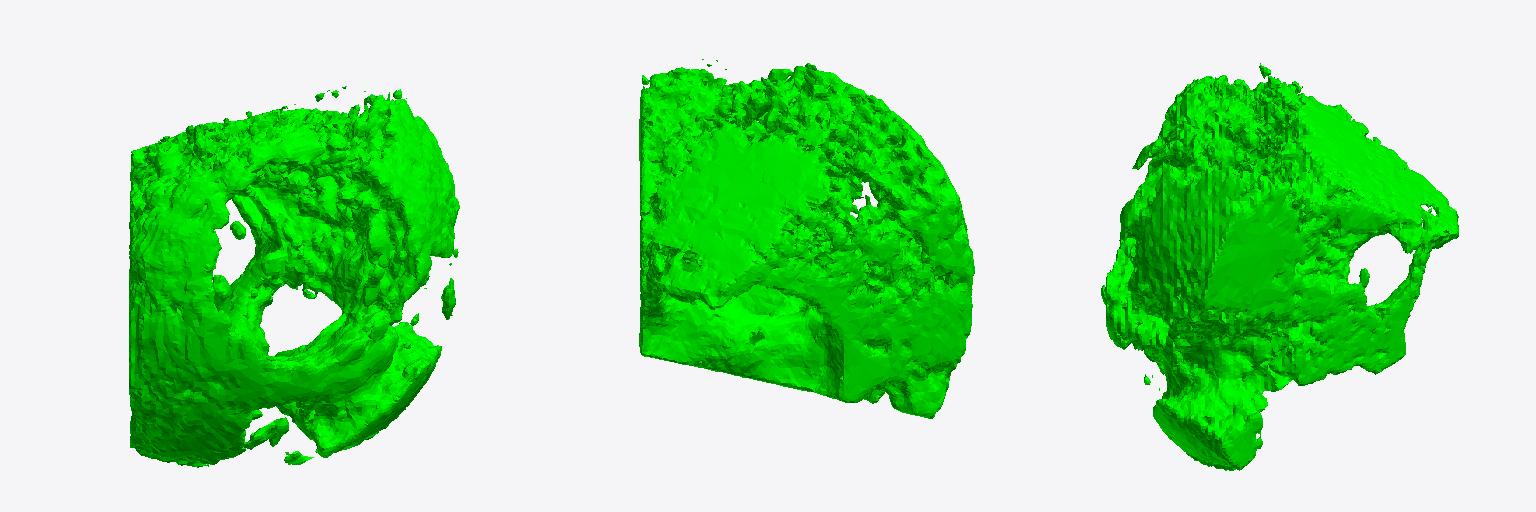
File: B939XXXX-1_base_31.obj
3 views of the same model, side by side, from view 1: azimuth 30°, elevation 25°; view 2: azimuth 150°, elevation 25°; view 3: azimuth 270°, elevation 25° (orthographic).
Visible parts, largest first — view 1: 31_base; view 2: 31_base; view 3: 31_base.
Boxes of the visible parts, <box> form: 31_base: <box>129,86,459,467</box>; 31_base: <box>639,59,974,418</box>; 31_base: <box>1101,63,1458,470</box>.
Size of the model in its own units: 219 by 214 by 206.